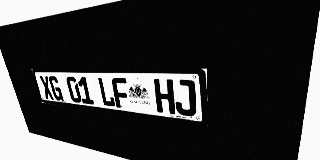0: (65, 76, 82, 103)
1: (76, 77, 94, 105)
F: (111, 78, 131, 109)
G: (48, 76, 64, 101)
H: (154, 79, 175, 114)
J: (173, 79, 196, 117)
L: (97, 77, 116, 107)
X: (39, 76, 54, 100)
